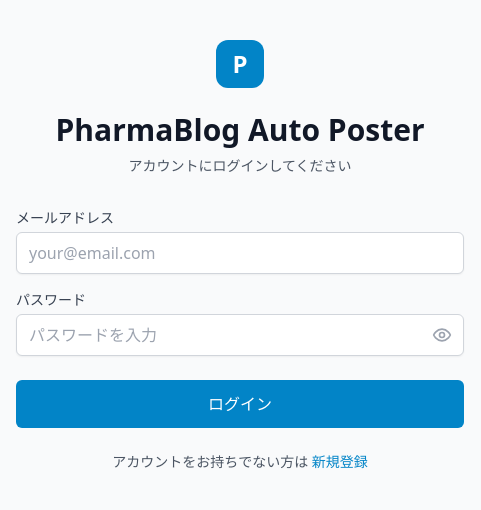
Scenario: Authentication › Form Interactions › clears errors when user starts typing
// Trigger validation error
Click the button "ログイン". click: click(240, 404)
box: [16,380,464,428]
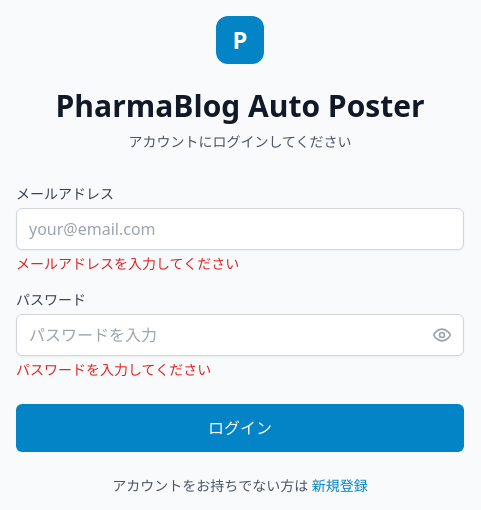
Expected: the text "メールアドレスを入力してください" is shown, [16,254,239,273]
// Start typing to clear error
Type "test@example.com" into the field labelled "メールアドレス". click: (240, 229)
box: [16,208,464,250]
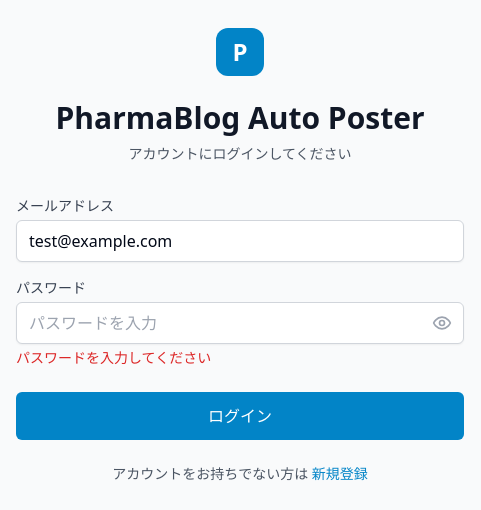
Expected: the text "メールアドレスを入力してください" is gone
